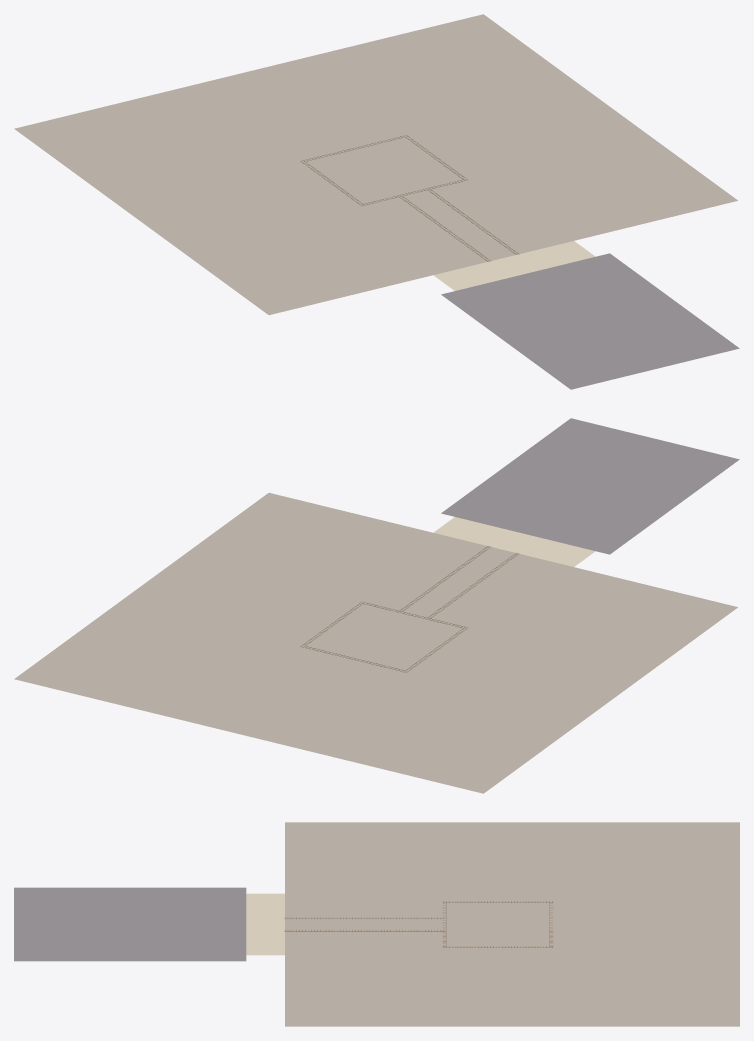
The model's file is steampunk_terrain.fbx.
The picture shows the model from 3 angles, top to bottom: view 1: azimuth 30°, elevation 25°; view 2: azimuth 150°, elevation 25°; view 3: azimuth 270°, elevation 25°; orthographic projection. The views are drawn at different scales.
Visible parts, largest first — view 1: Cobbles__Cobble, FactoryFloor__FactoryFloor, Yard__Flagstone, Sleeper__Wood, Rail__Iron; view 2: Cobbles__Cobble, FactoryFloor__FactoryFloor, Yard__Flagstone, Sleeper__Wood, Rail__Iron; view 3: Cobbles__Cobble, FactoryFloor__FactoryFloor, Yard__Flagstone, Sleeper__Wood, Rail__Iron.
Boxes of the visible parts, box(x1,y1,x2,y2) form: Cobbles__Cobble: box(14, 14, 737, 315); FactoryFloor__FactoryFloor: box(441, 253, 739, 389); Yard__Flagstone: box(433, 241, 595, 290); Sleeper__Wood: box(300, 135, 519, 261); Rail__Iron: box(301, 135, 518, 261); Cobbles__Cobble: box(14, 492, 737, 793); FactoryFloor__FactoryFloor: box(441, 418, 739, 554); Yard__Flagstone: box(433, 517, 595, 566); Sleeper__Wood: box(300, 546, 519, 672); Rail__Iron: box(301, 546, 518, 672); Cobbles__Cobble: box(285, 822, 739, 1026); FactoryFloor__FactoryFloor: box(14, 887, 246, 961); Yard__Flagstone: box(246, 893, 284, 955); Sleeper__Wood: box(284, 901, 552, 947); Rail__Iron: box(285, 902, 552, 947).
Bounding box in the file's own units: 200 × 0.06 × 300.
